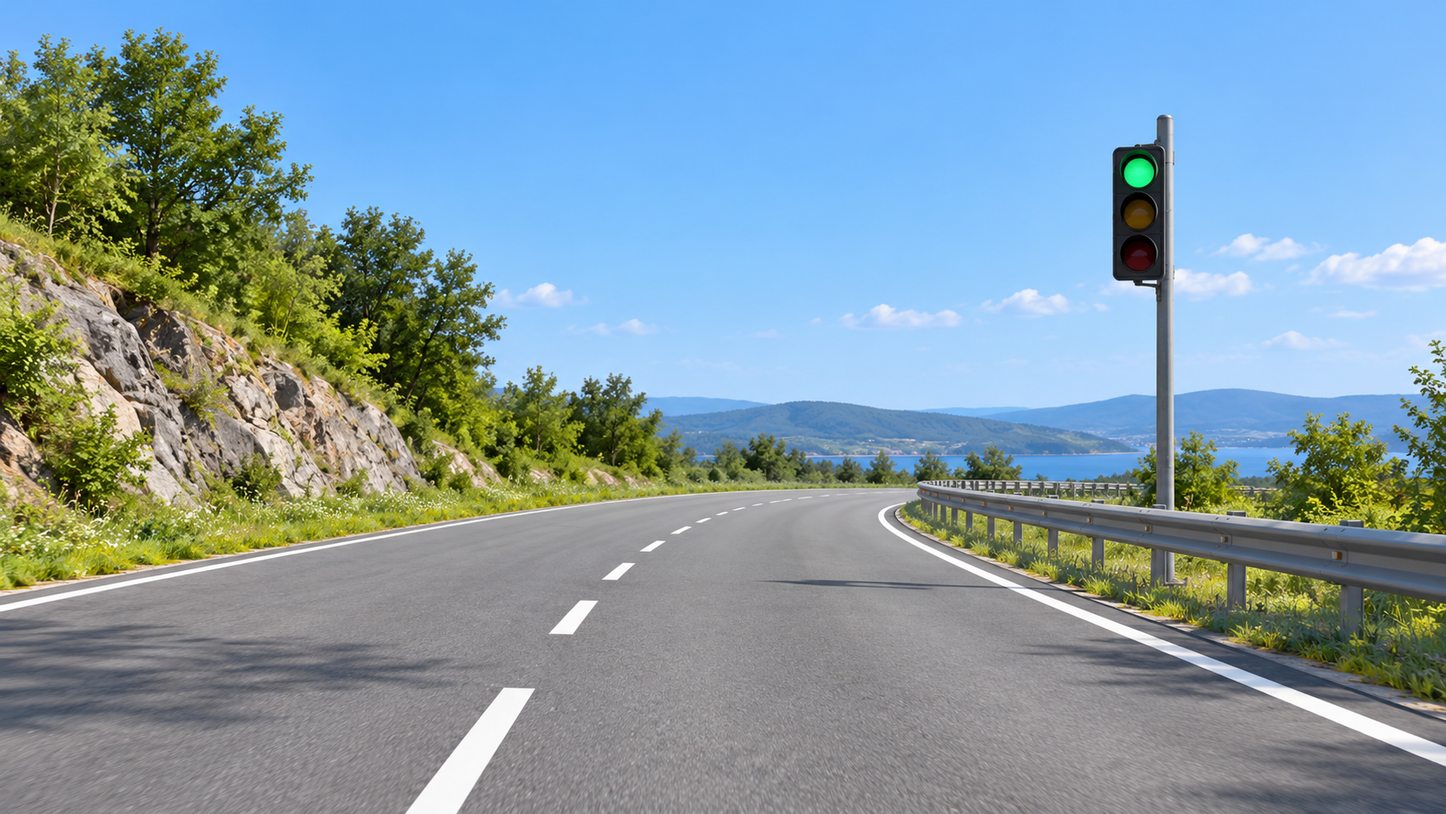traffic_light: (1111, 145, 1163, 283)
